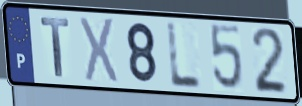2: (250, 26, 290, 97)
5: (208, 22, 245, 95)
8: (124, 20, 159, 86)
L: (165, 21, 204, 91)
T: (38, 16, 71, 80)
X: (77, 15, 120, 87)
